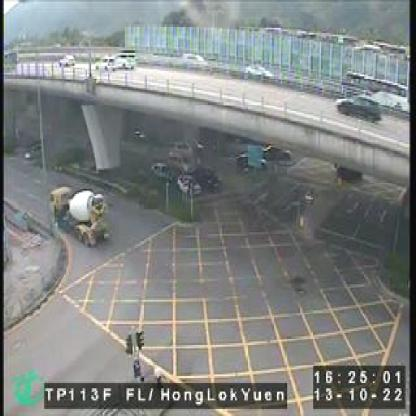Car: (336, 96, 382, 124)
Truck: (51, 186, 106, 249)
